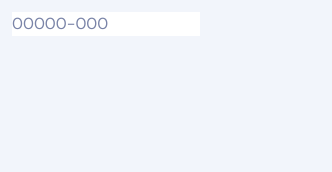
pickers › CepField consulta com 8 dígitos e devolve o endereço
This screenshot has width=332, height=172.
In the field named "CEP": [106, 24] box [12,12,200,36], type "65900000"
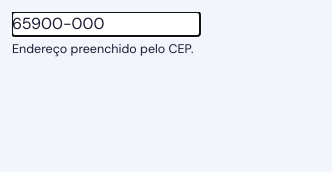
Expected: the field named "CEP" holds "65900-000", [12,12,200,36]
